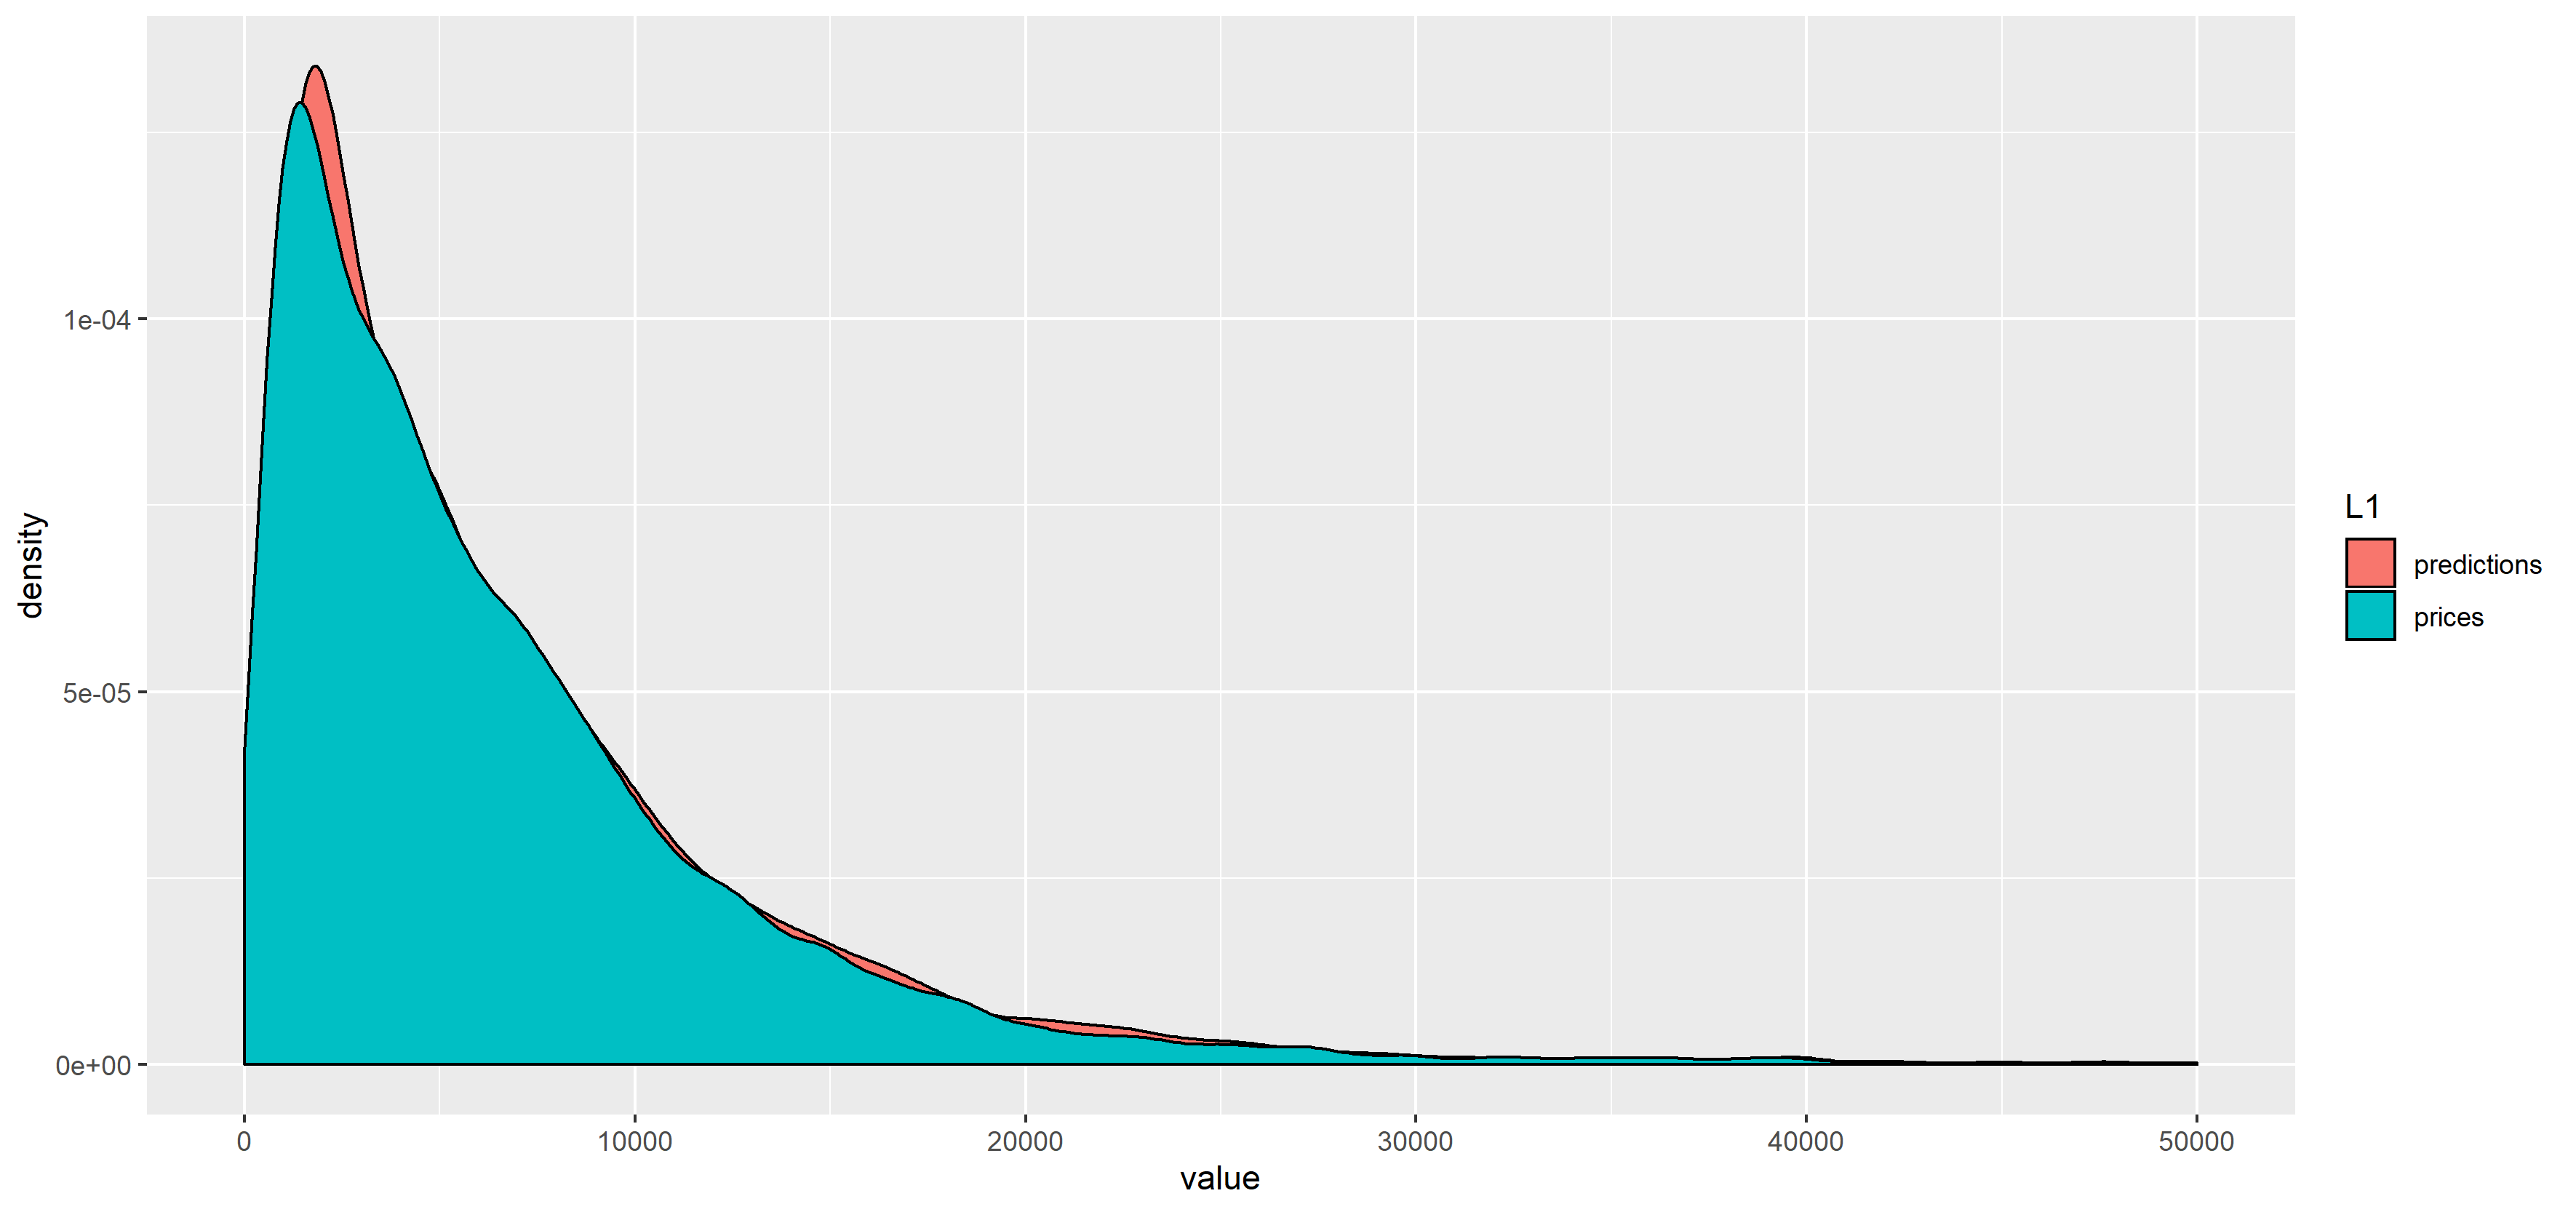

The page's visual inventory and layout, read from the dashboard file:
{"tool":"powerbi","page":{"name":"Seite 1","canvas":[1280,720],"ordinal":0},"visuals":[{"type":"pythonVisual","fields":{"Values":["public_cars.feature_0","public_cars.feature_2","public_cars.feature_3","public_cars.feature_1","public_cars.feature_5","public_cars.feature_4","public_cars.feature_6","public_cars.feature_7","public_cars.feature_8","public_cars.feature_9","public_cars.has_warranty"]},"box":[9.5,0,1213.3,720],"z":0}]}

Visuals, with their boxes on the page's 1280x720 design canvas (x1, y1, x2, y2). These are canvas units, not pixel positions in the 2576x1212 screenshot, which may show the page scaled, cropped or inside an application window:
pythonVisual - public_cars.feature_0 x public_cars.feature_2: (10,0,1223,720)
